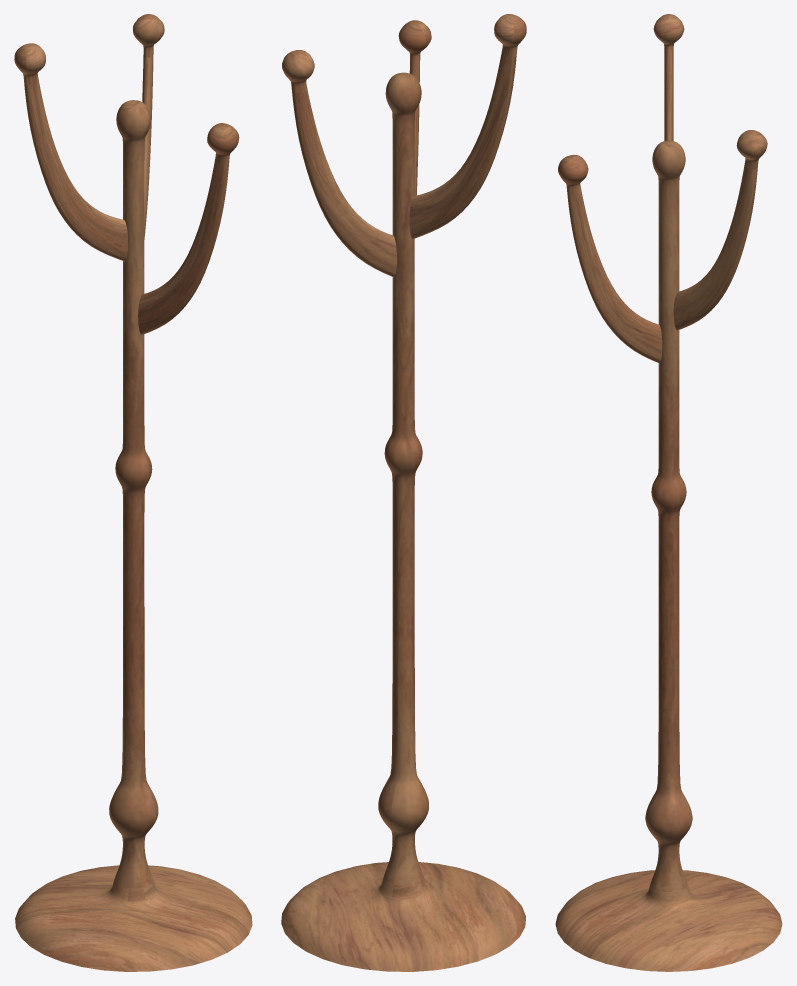
The model's file is appendiabiti.fbx.
The picture shows the model from 3 angles, left to right: view 1: azimuth 30°, elevation 25°; view 2: azimuth 150°, elevation 25°; view 3: azimuth 270°, elevation 25°; orthographic projection. The views are drawn at different scales.
Parts seen in each view (by area): view 1: appendiabiti; view 2: appendiabiti; view 3: appendiabiti.
Part boxes in pixels (x1,y1,x2,y2): appendiabiti: [14, 14, 252, 971]; appendiabiti: [281, 14, 526, 971]; appendiabiti: [555, 14, 782, 971].
Size of the model in its own units: 44.7 by 175 by 41.86.
